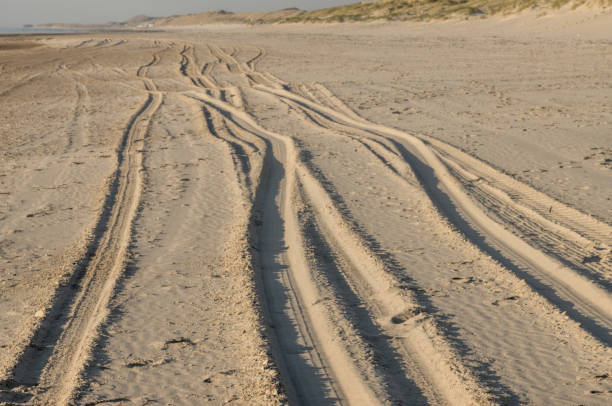vehicle_track: (255, 85, 611, 341), (189, 93, 374, 403), (0, 92, 162, 404), (36, 94, 162, 404), (428, 138, 611, 287), (329, 234, 486, 403), (440, 152, 611, 288), (285, 100, 413, 184), (259, 192, 316, 303), (179, 45, 219, 91), (65, 82, 90, 152), (0, 73, 41, 96), (137, 53, 160, 91)
